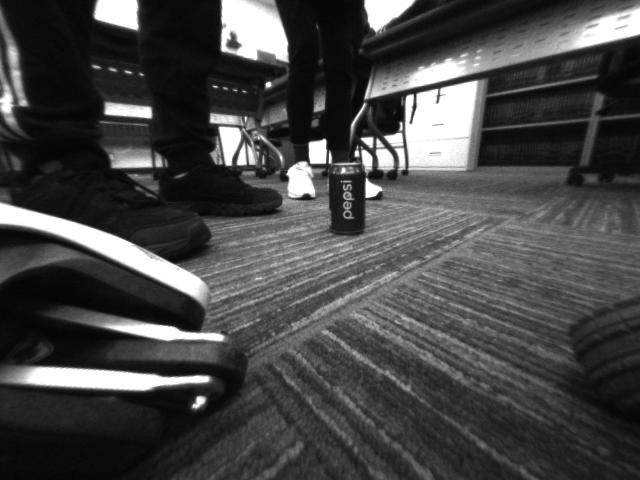can: (327, 159, 368, 239)
